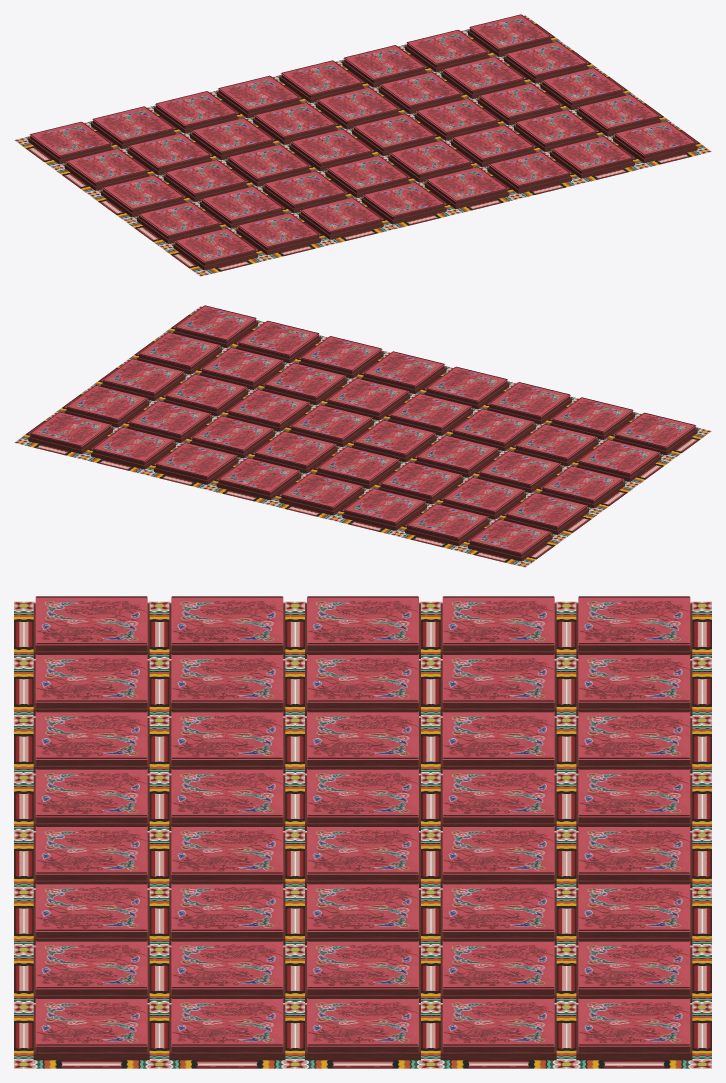
File: SM_Ceiling07C.fbx
3 views of the same model, one above another, from view 1: azimuth 30°, elevation 25°; view 2: azimuth 150°, elevation 25°; view 3: azimuth 270°, elevation 25° (orthographic). The views are drawn at different scales.
Parts seen in each view (by area): view 1: SM_Ceiling07C; view 2: SM_Ceiling07C; view 3: SM_Ceiling07C.
Boxes of the visible parts, x1,y1,x2,y2 form: SM_Ceiling07C: (14,14,711,276); SM_Ceiling07C: (14,305,711,567); SM_Ceiling07C: (14,596,711,1068).
Bounding box in the file's own units: 318 × 201 × 4.66.
Materials: 1 (1 with a texture image).
